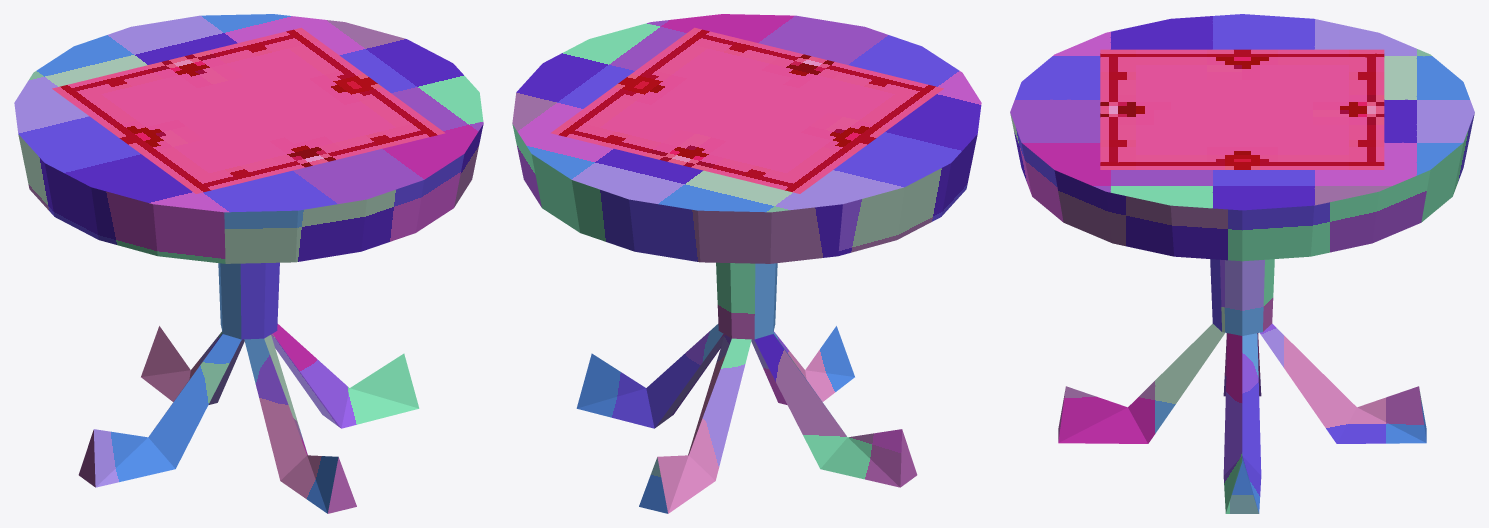
File: rmk_lov_tableS_jwl.dae
3 views of the same model, side by side, from view 1: azimuth 30°, elevation 25°; view 2: azimuth 150°, elevation 25°; view 3: azimuth 270°, elevation 25° (orthographic).
Visible parts, largest first — view 1: rmk_lov_tableS_jwl; view 2: rmk_lov_tableS_jwl; view 3: rmk_lov_tableS_jwl.
Boxes of the visible parts, <box> form: rmk_lov_tableS_jwl: <box>14,14,483,513</box>; rmk_lov_tableS_jwl: <box>512,14,981,513</box>; rmk_lov_tableS_jwl: <box>1010,14,1474,513</box>.
Bounding box in the file's own units: 31.21 × 24.17 × 31.21.
Materials: 2 (2 with a texture image).
